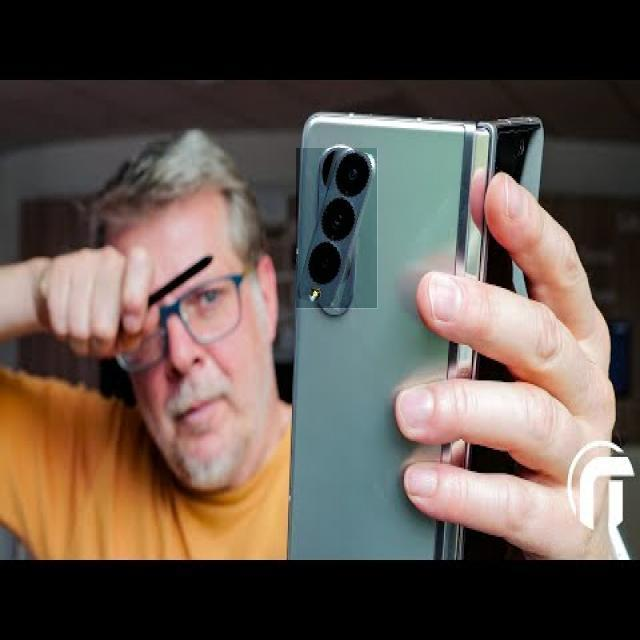phone: (288, 106, 544, 560)
